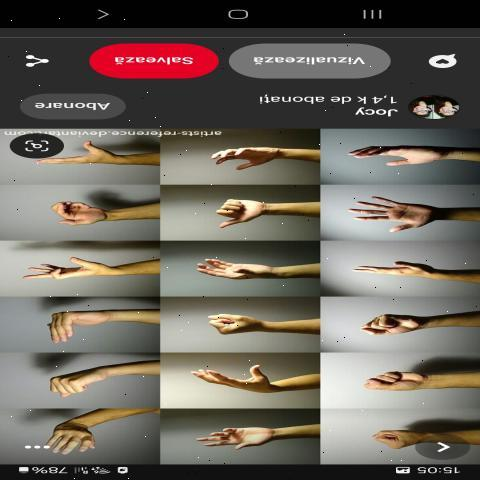Hands: (326, 185, 476, 241), (172, 361, 316, 408), (10, 242, 151, 289), (337, 139, 478, 182), (337, 252, 472, 296), (169, 245, 304, 288), (175, 142, 314, 183), (179, 422, 318, 462), (27, 306, 145, 345), (30, 140, 154, 177), (34, 193, 146, 233)
